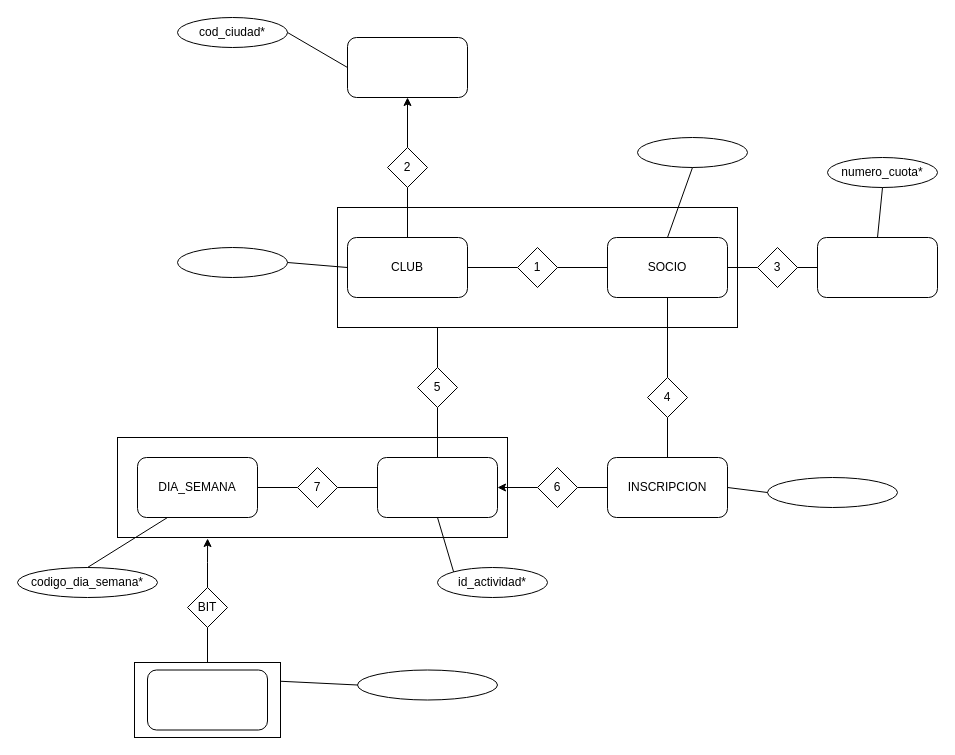
The diagram is 955 pixels wide and 755 high, and some of its shapes have lost their labels. Each missing label, with the centre of its shape:
"ACTIVIDAD" belongs at pixel 437 487.
"CIUDAD" belongs at pixel 407 67.
"CUOTA" belongs at pixel 877 267.
"HORA_INICIO" belongs at pixel 207 699.
"hora_inicio*" belongs at pixel 427 684.
"id_club*" belongs at pixel 232 262.
"id_socio*" belongs at pixel 692 152.
"numero_inscripcion*" belongs at pixel 832 492.
